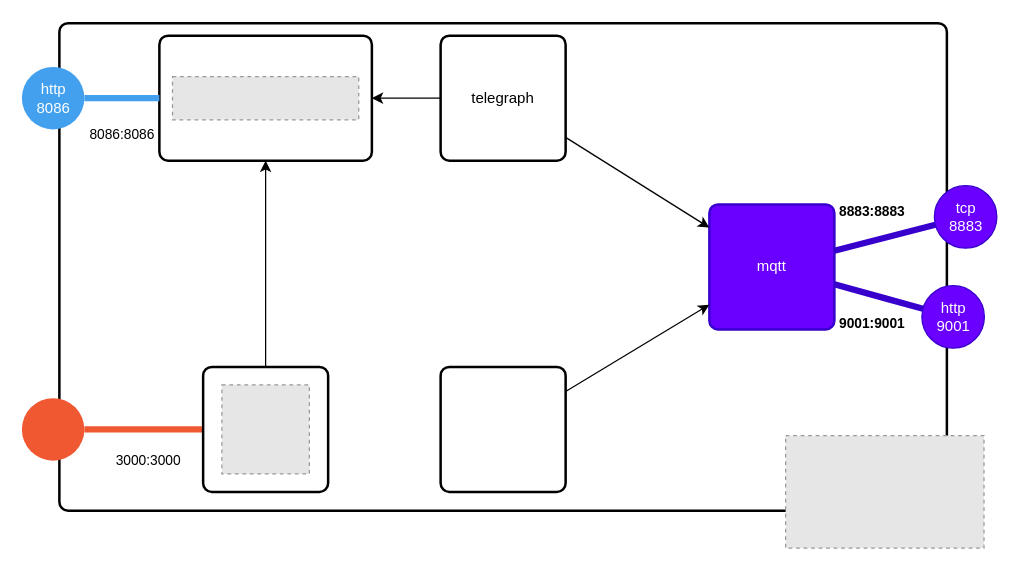
The diagram is 1019 pixels wide and 570 high, and some of its shapes have lost their labels. Grey dashed boxes stand in for pictures. Here are the shapes that lost their labels. From the top down, the centre of each, then its label:
[52,429]: http 3000
[502,428]: publisher
